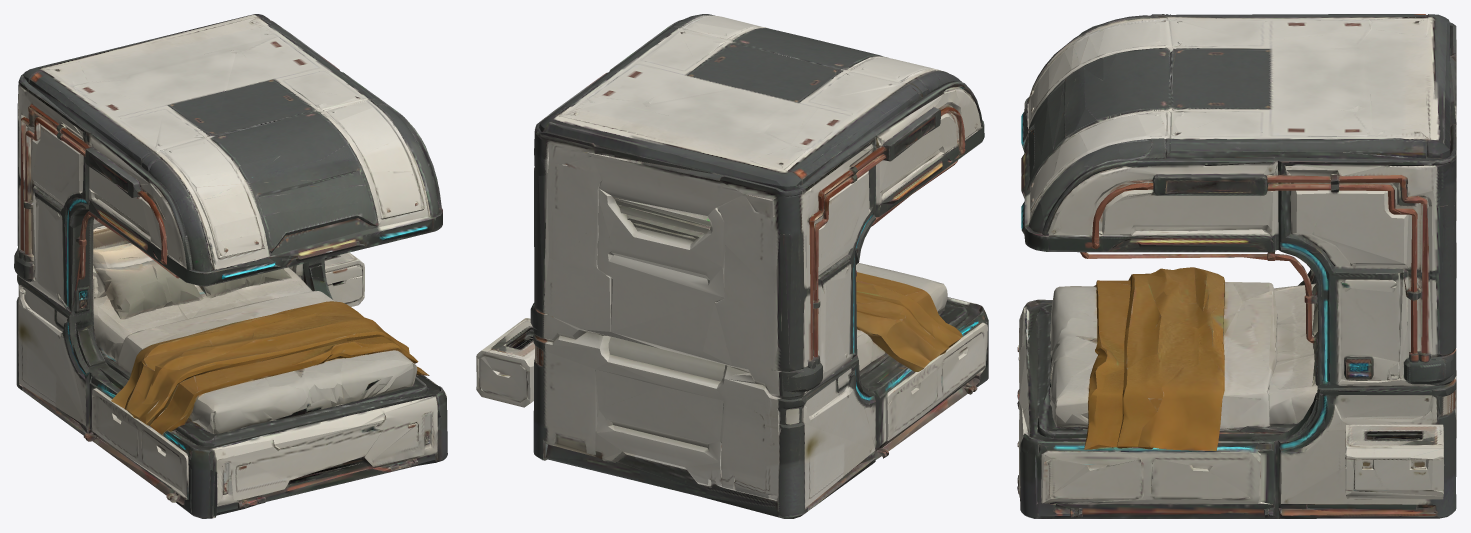
The model's file is sleep-capsule.glb.
The picture shows the model from 3 angles, left to right: view 1: azimuth 30°, elevation 25°; view 2: azimuth 150°, elevation 25°; view 3: azimuth 270°, elevation 25°; orthographic projection. The views are drawn at different scales.
Visible parts, largest first — view 1: sleep_capsule_000; view 2: sleep_capsule_000; view 3: sleep_capsule_000.
Boxes of the visible parts, x1,y1,x2,y2 form: sleep_capsule_000: (14,14,447,518); sleep_capsule_000: (476,14,988,518); sleep_capsule_000: (1017,14,1456,518).
Size of the model in its own units: 1.95 by 1.87 by 2.
Materials: 1 (1 with a texture image).
